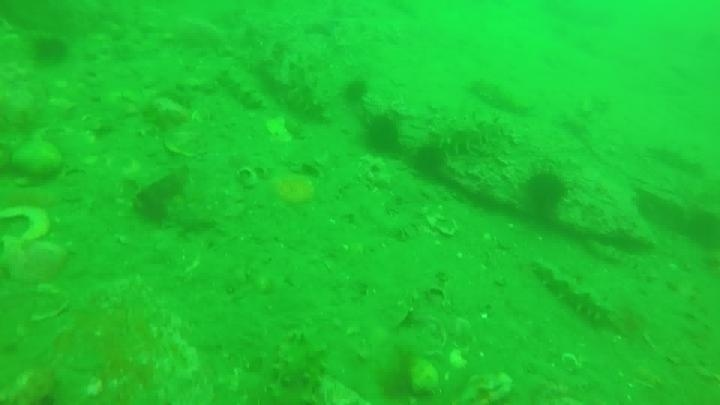echinus: (527, 168, 569, 209), (408, 143, 450, 184), (358, 115, 400, 156), (19, 30, 61, 71), (339, 67, 381, 108)
holothurian: (530, 257, 617, 330), (268, 330, 330, 404), (275, 47, 330, 122), (425, 111, 515, 156), (466, 75, 535, 117), (218, 65, 267, 112), (644, 141, 707, 175)
starfish: (301, 13, 343, 39)
